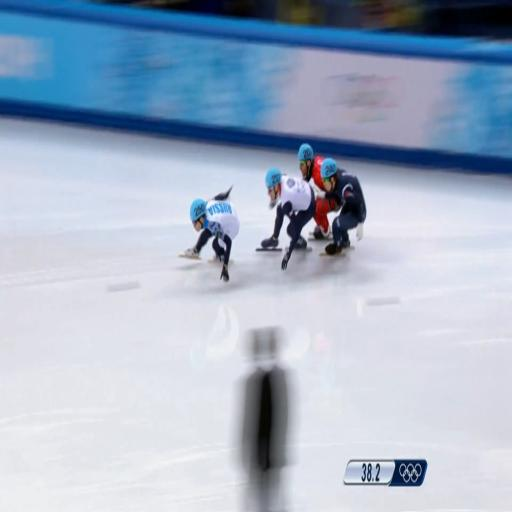Skater: (262, 169, 315, 270), (183, 188, 239, 281), (321, 159, 366, 255), (298, 144, 338, 240)
